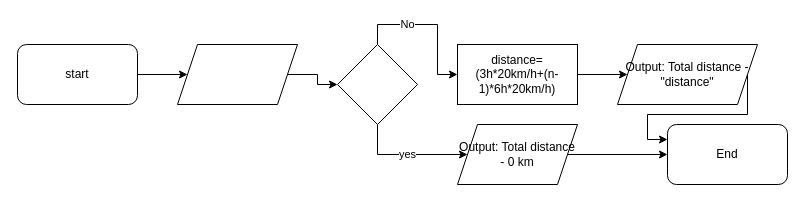
Image size: 805x202. Some labels were removed from this diagram. The centre of each missing label's shape, as x and y in pixels:
Input: how many "n" days do you want your trip to take?: (237,74)
is n=0: (377,84)
